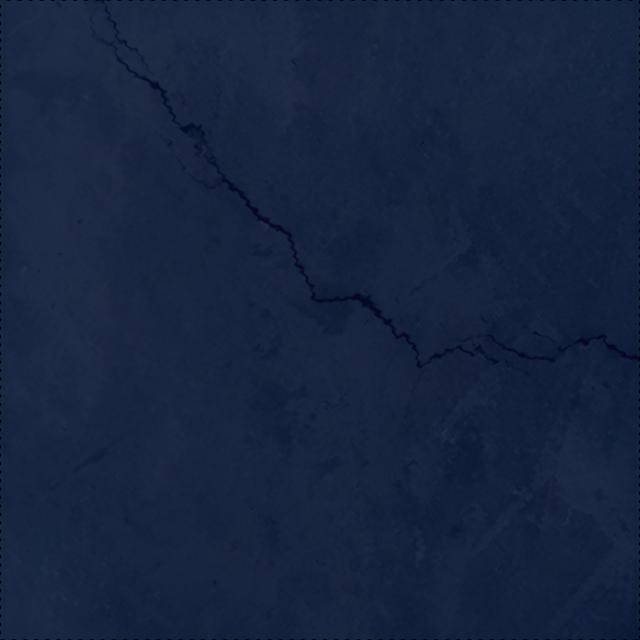crack: (85, 0, 640, 376), (99, 0, 155, 76), (405, 372, 423, 432)
